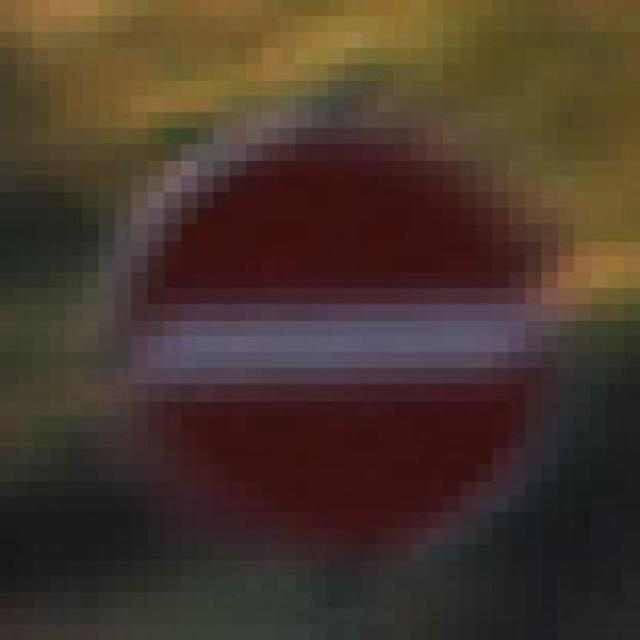No Entry: (98, 49, 574, 576)
